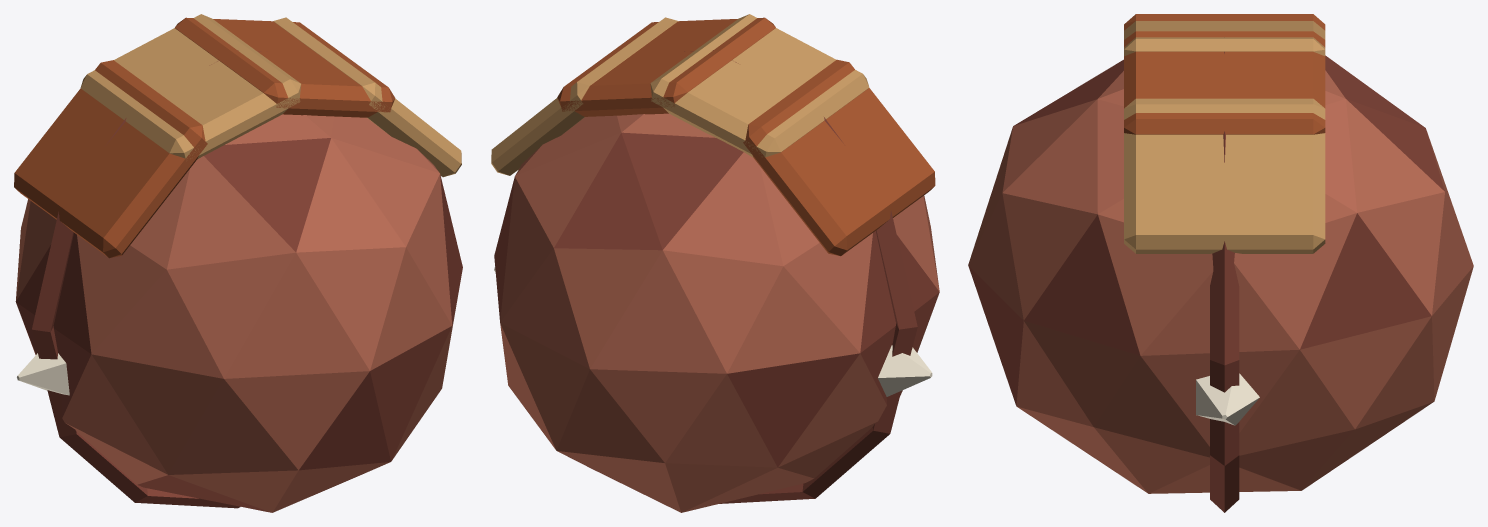
File: WormSegment.fbx
The picture shows the model from 3 angles, left to right: view 1: azimuth 30°, elevation 25°; view 2: azimuth 150°, elevation 25°; view 3: azimuth 270°, elevation 25°; orthographic projection.
Visible parts, largest first — view 1: WormSegment; view 2: WormSegment; view 3: WormSegment.
Boxes of the visible parts, x1,y1,x2,y2 form: WormSegment: (14,14,462,512); WormSegment: (491,14,939,512); WormSegment: (968,14,1473,512).
Size of the model in its own units: 9 by 9 by 9.
